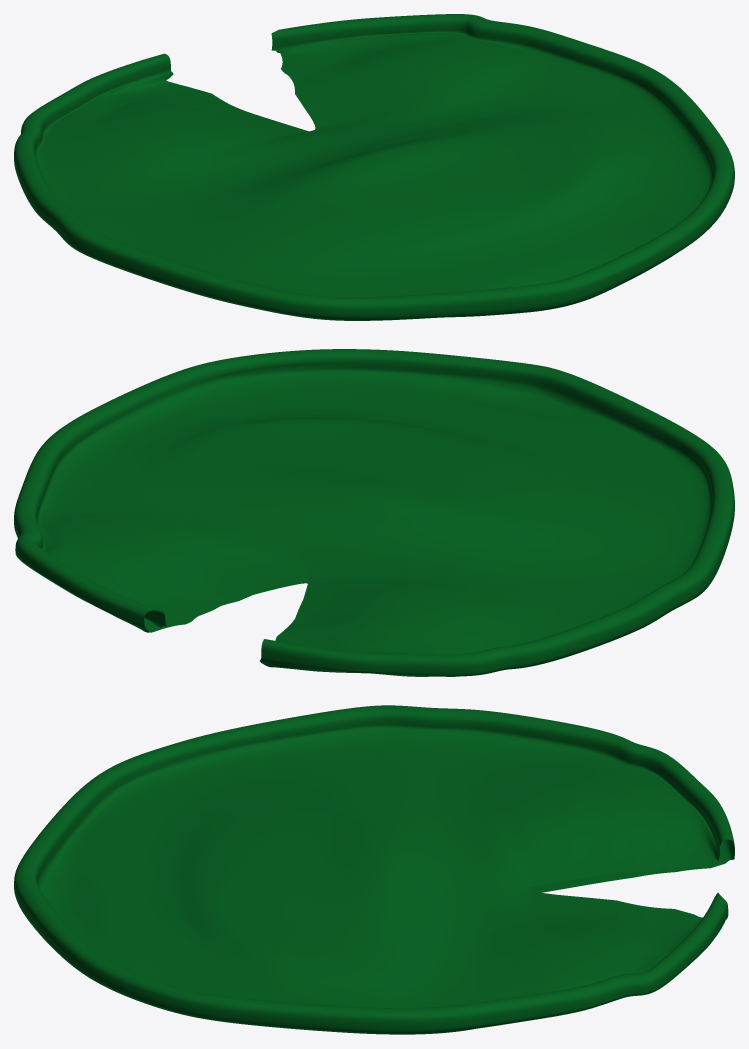
Rendered from Nilüfer yaprağı.fbx.
The picture shows the model from 3 angles, top to bottom: view 1: azimuth 30°, elevation 25°; view 2: azimuth 150°, elevation 25°; view 3: azimuth 270°, elevation 25°; orthographic projection. The views are drawn at different scales.
Visible parts, largest first — view 1: Cube; view 2: Cube; view 3: Cube.
Boxes of the visible parts, box(x1,y1,x2,y2) form: Cube: box(14, 14, 734, 320); Cube: box(14, 349, 734, 676); Cube: box(14, 705, 734, 1034).
Bounding box in the file's own units: 181 × 10.29 × 176.
